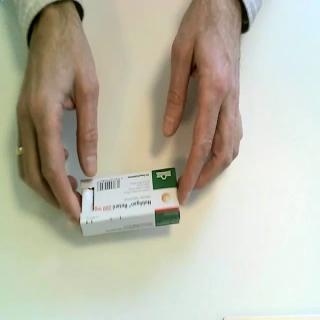nobligan_retard200mg: (80, 167, 182, 239)
